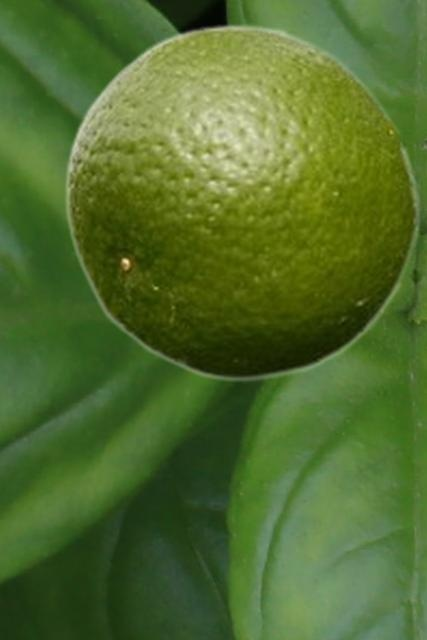calamansi: (64, 20, 420, 382)
